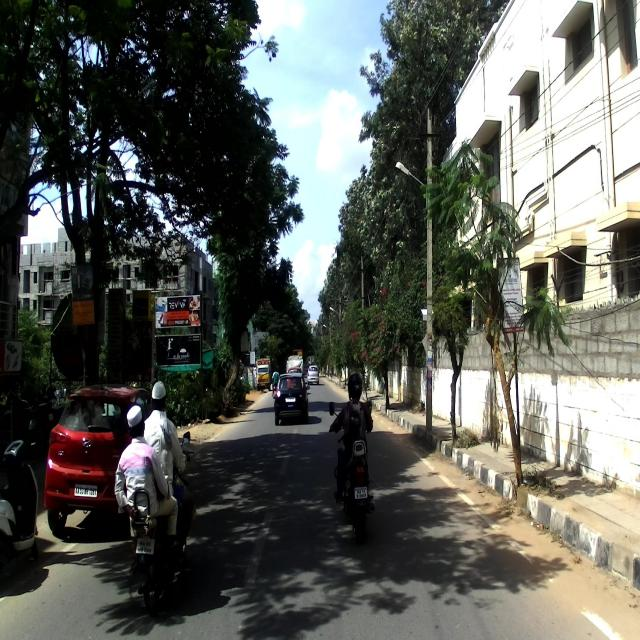car: (43, 372, 151, 534), (273, 369, 309, 424), (308, 366, 317, 386)
motorcycle: (130, 429, 196, 618), (326, 401, 375, 541), (0, 432, 40, 577), (19, 395, 57, 467)
